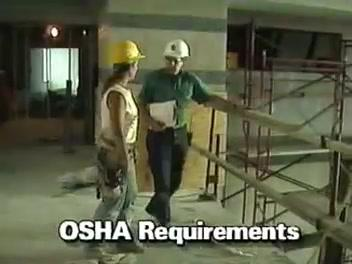helmet: (108, 38, 150, 65), (159, 35, 198, 61)
no -hi-vis jacket: (148, 69, 197, 132), (98, 85, 143, 147)
